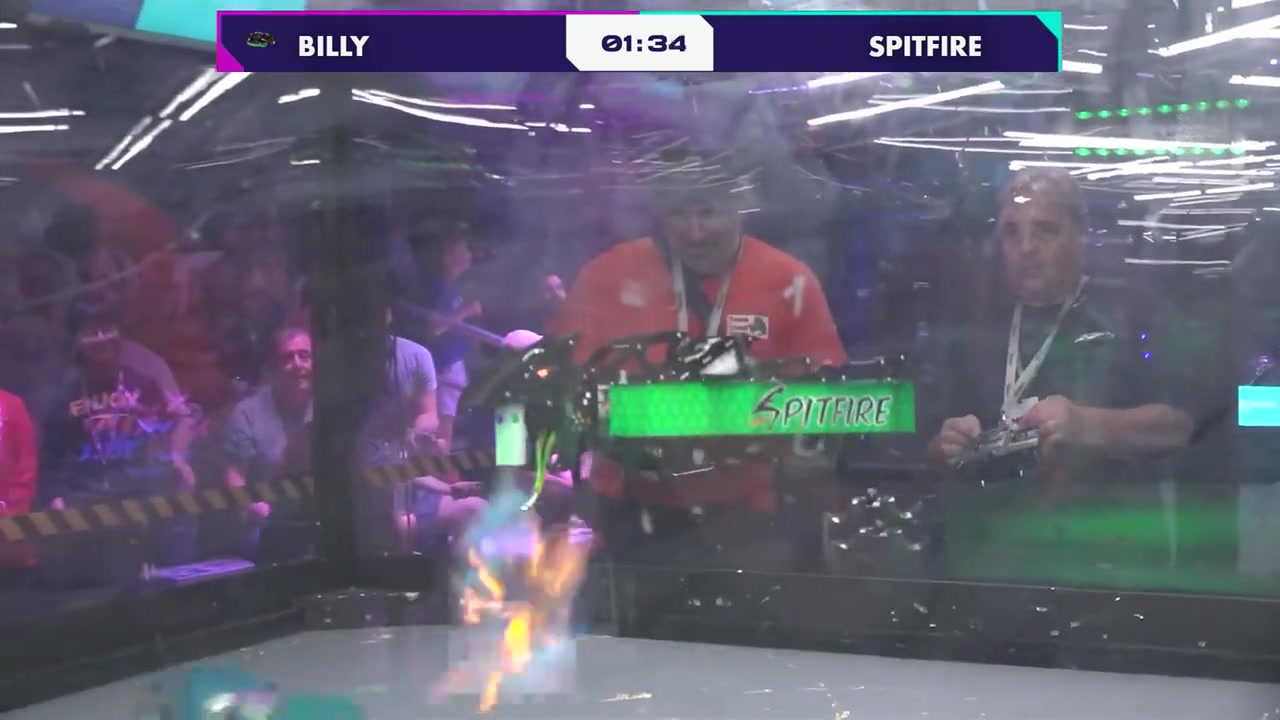combatbot: (466, 334, 920, 463), (164, 668, 362, 720)
